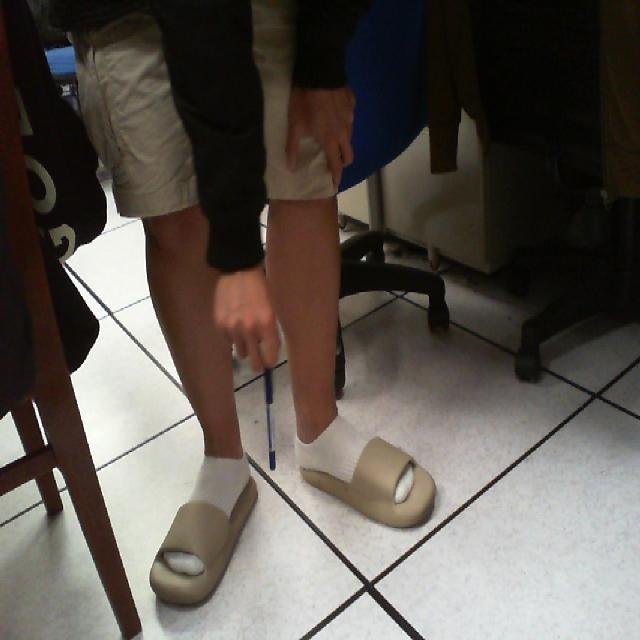Pen: (252, 347, 298, 490)
